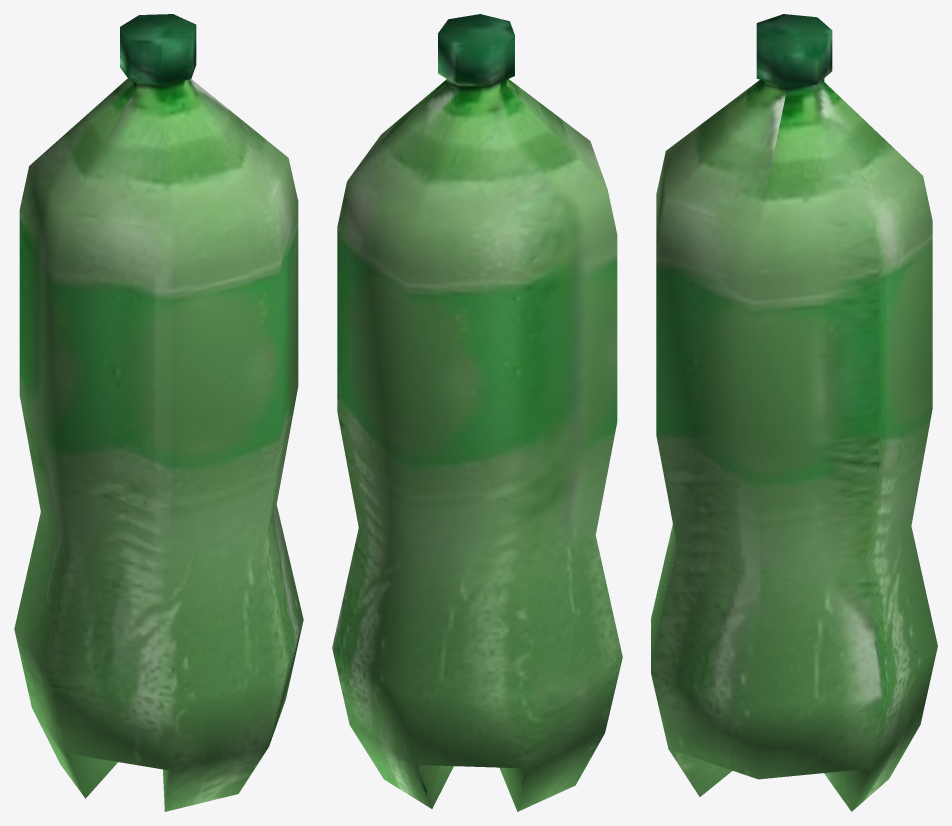
File: BottleType1.glb
3 renders of one model, left to right at view 1: azimuth 30°, elevation 25°; view 2: azimuth 150°, elevation 25°; view 3: azimuth 270°, elevation 25°, orthographic.
Parts seen in each view (by area): view 1: Refreshment_01; view 2: Refreshment_01; view 3: Refreshment_01.
Part boxes in pixels (box(x1,y1,x2,y2)): Refreshment_01: box(14, 14, 303, 811); Refreshment_01: box(332, 14, 622, 811); Refreshment_01: box(651, 14, 937, 811).
Bounding box in the file's own units: 0.2451 × 0.6891 × 0.239.
Materials: 1 (1 with a texture image).
